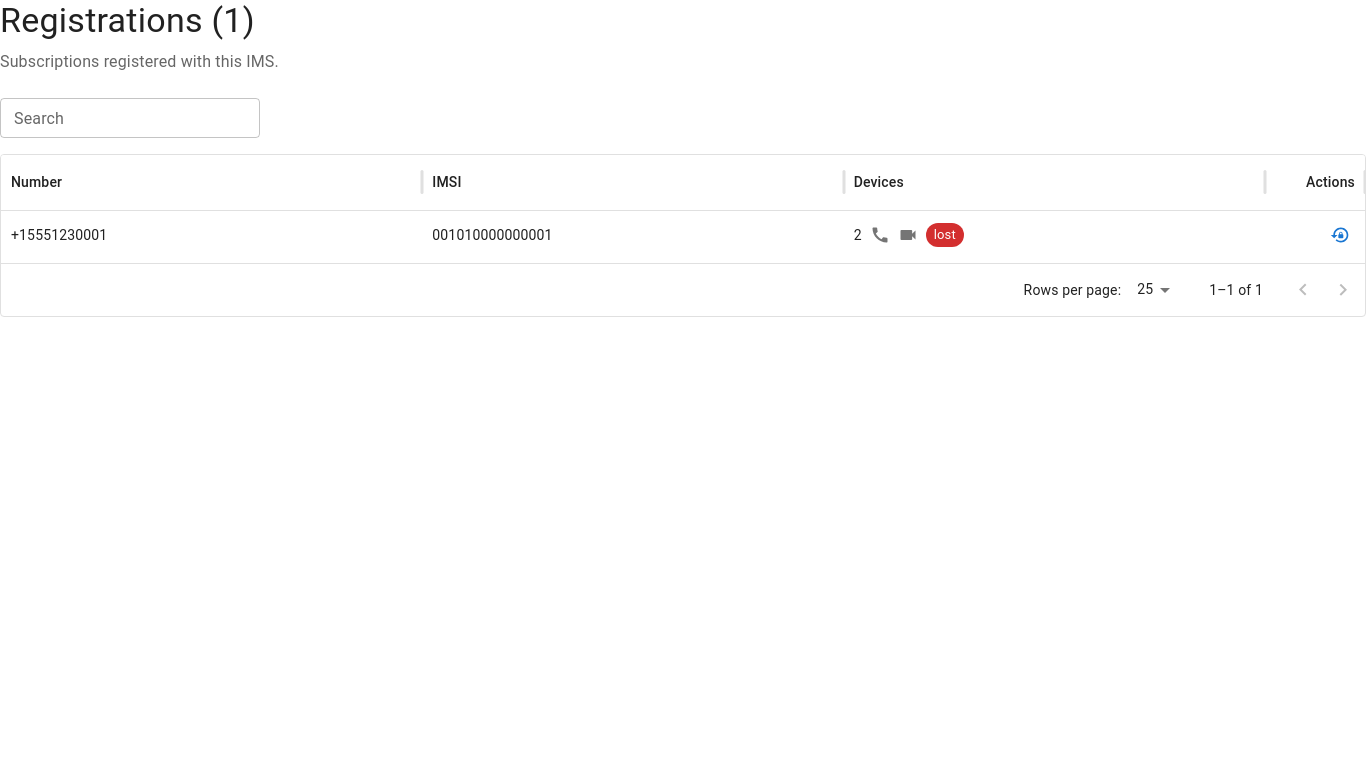
Test: Registrations › re-authenticates from the list
Click the button named "Re-authenticate 001010000000001". click: (1340, 235)
box: [1325,220,1355,250]
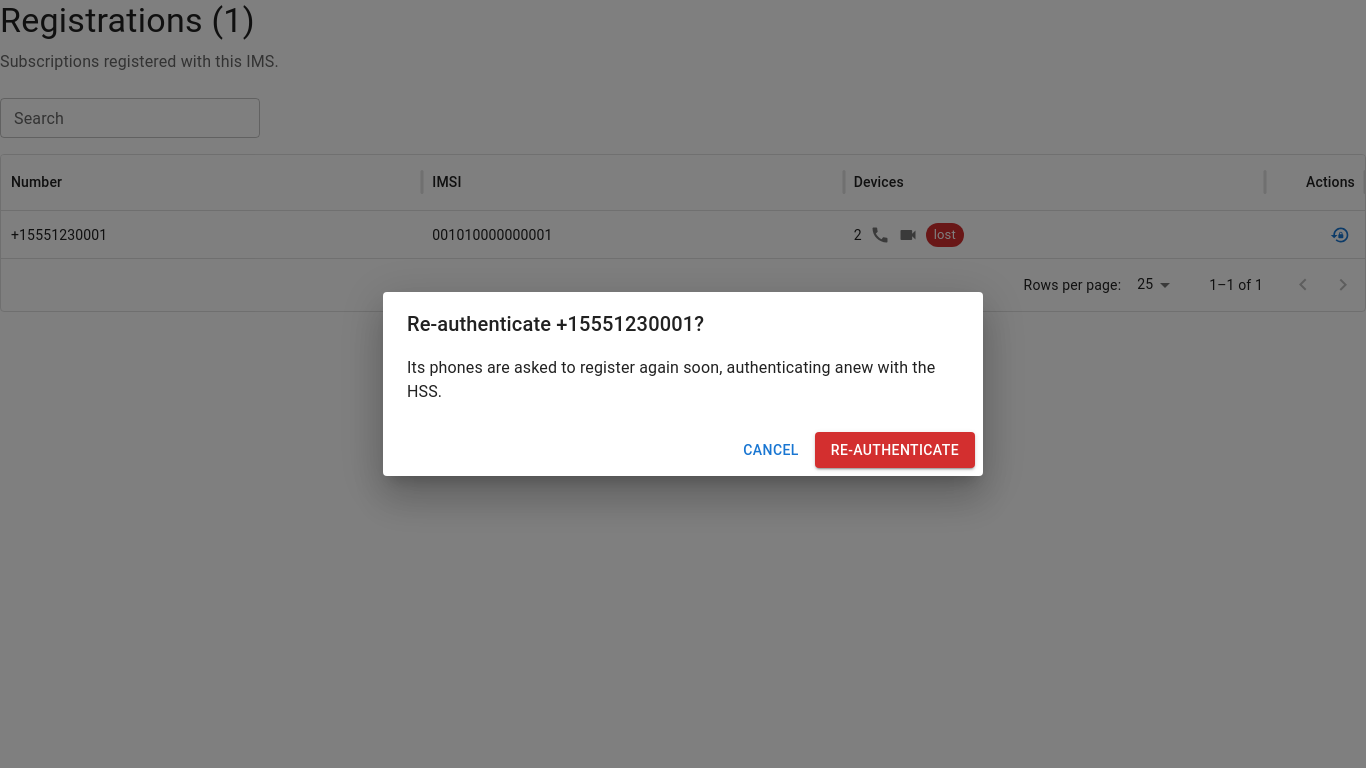
Click the button "Re-authenticate". click: (895, 450)
box: [815,432,975,468]
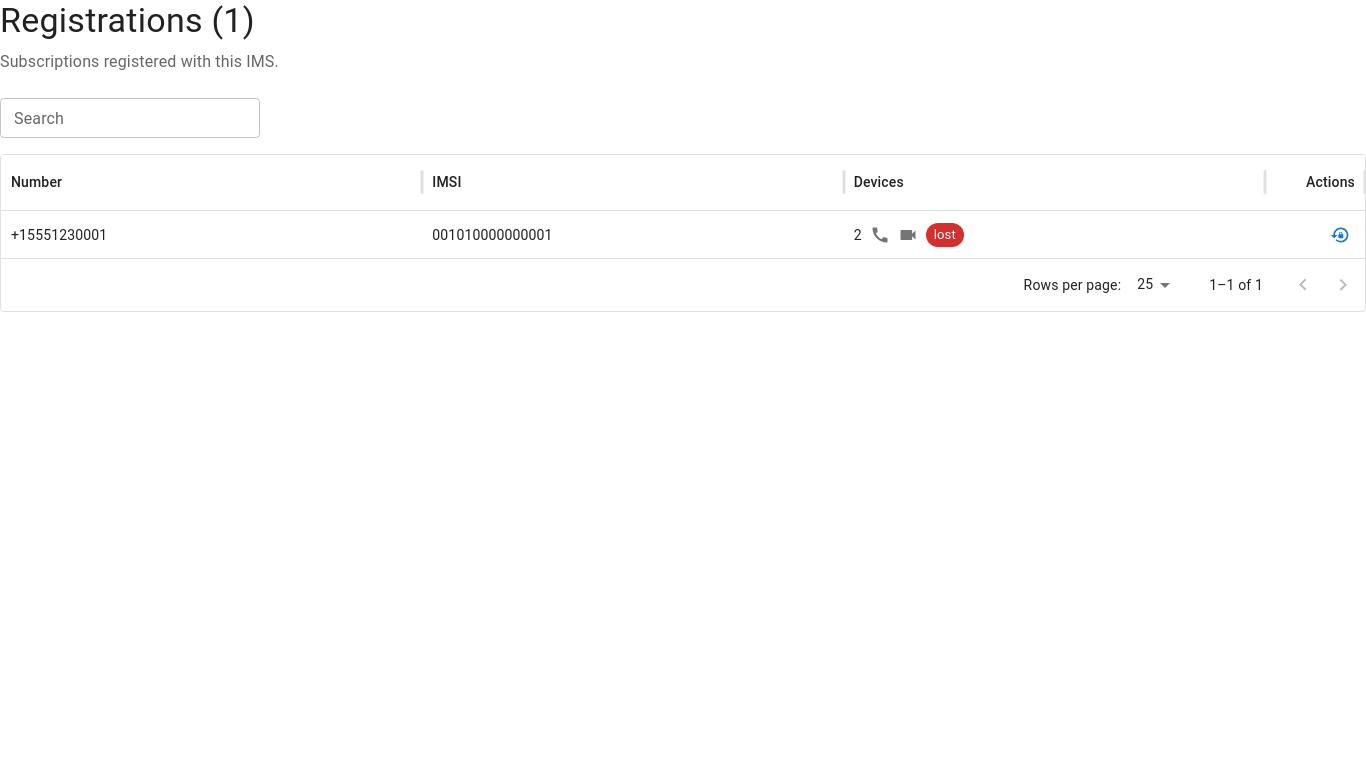
Expected: the dialog is gone
